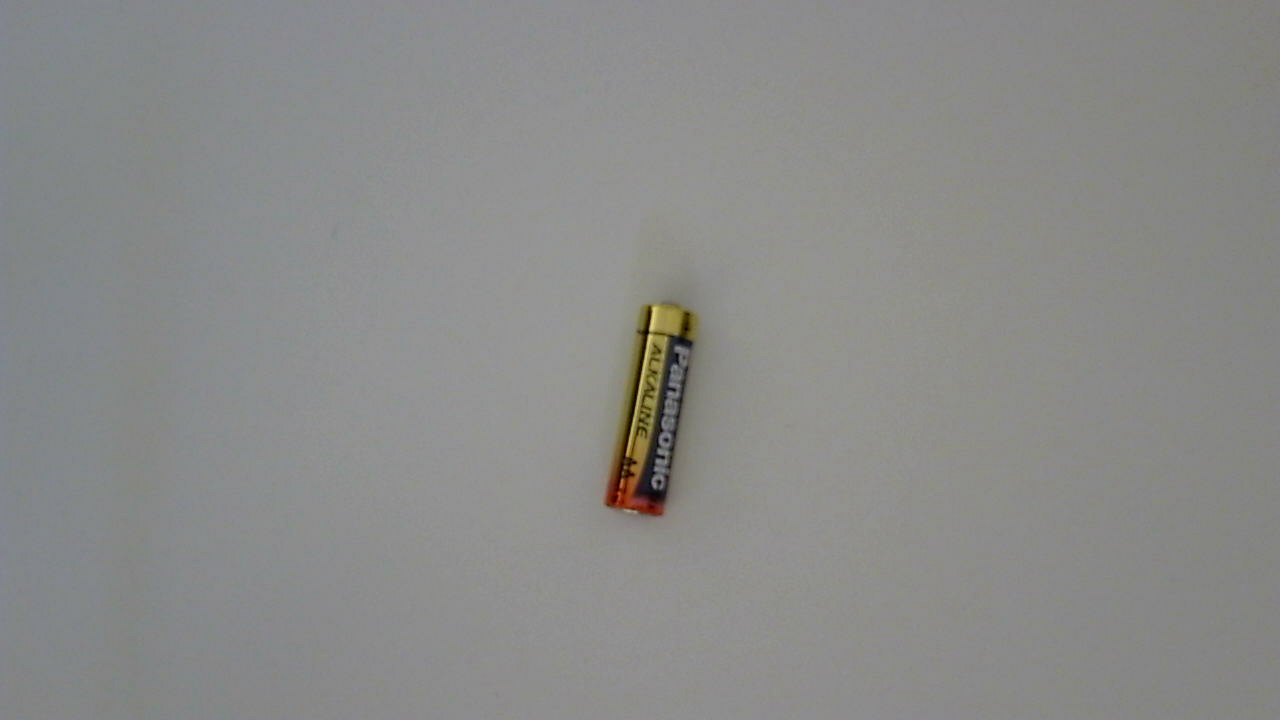Battery: (600, 298, 708, 529)
